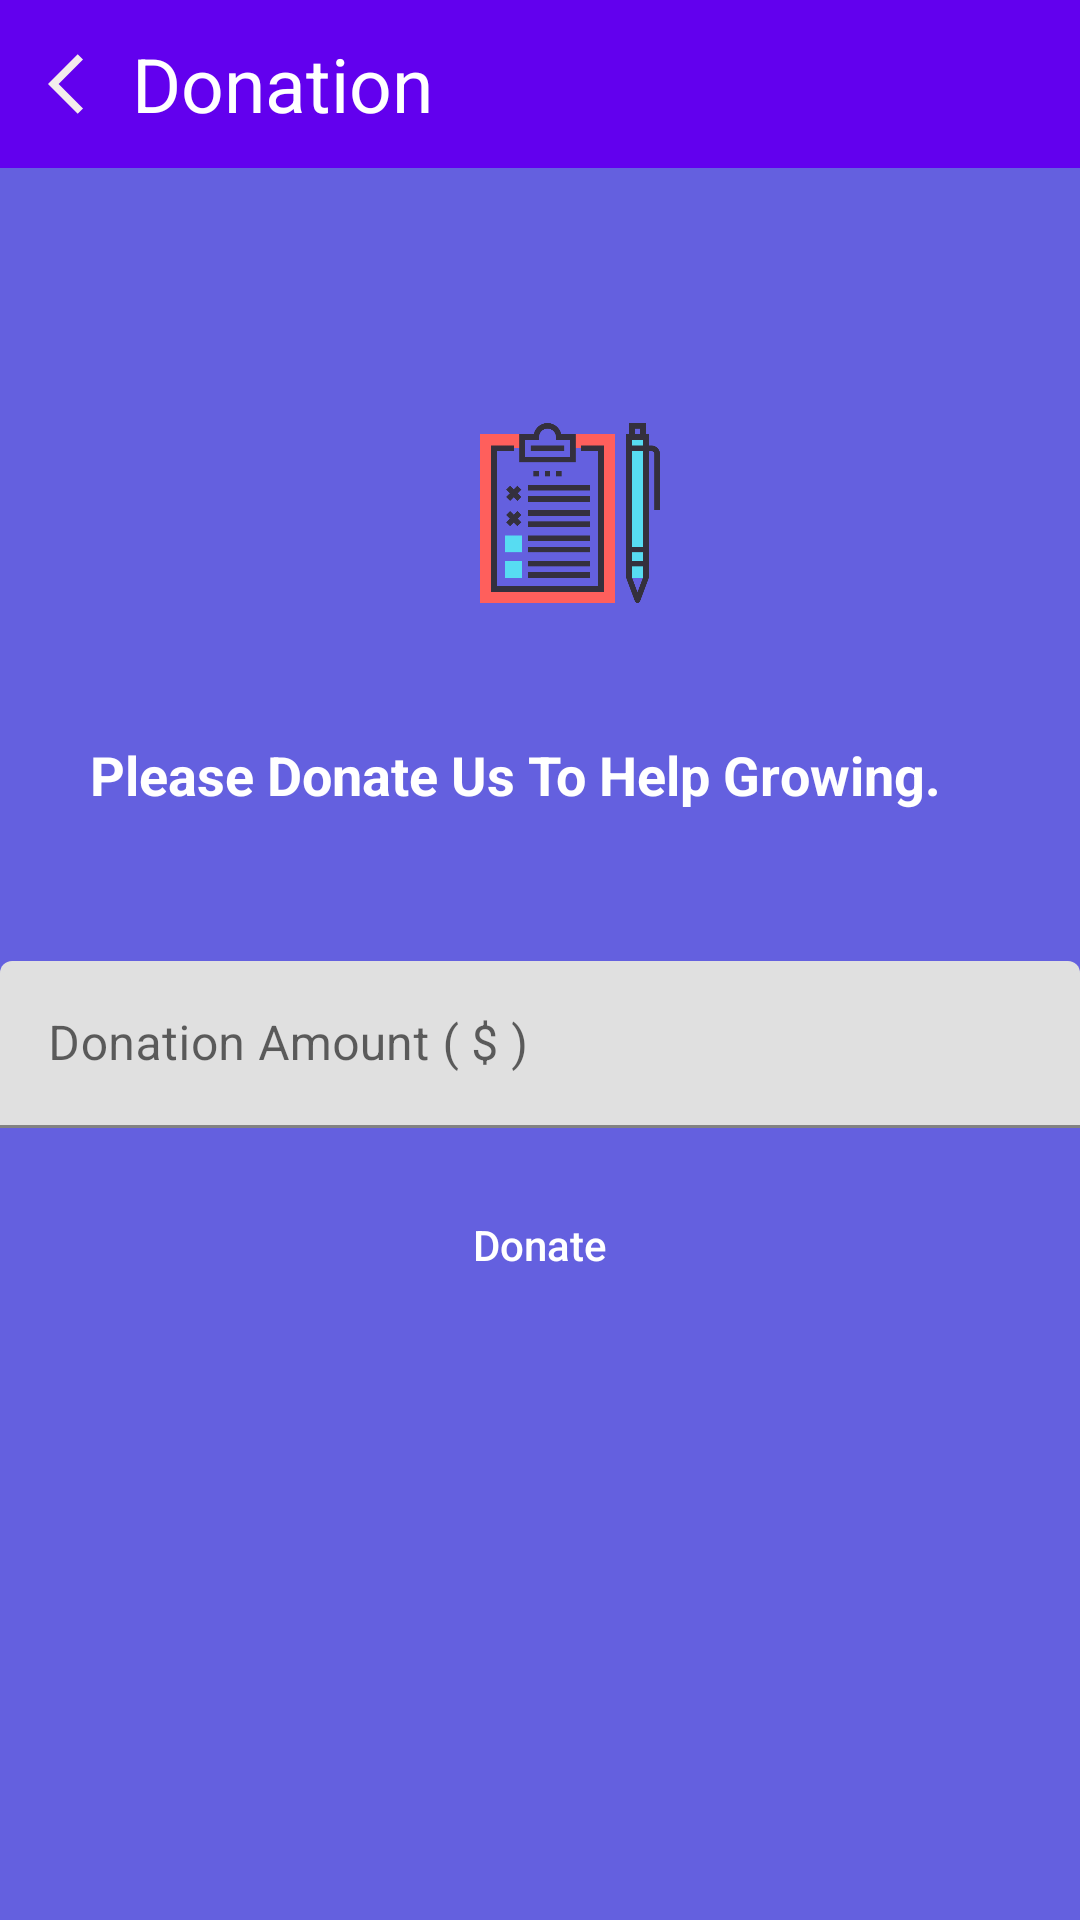

Icons on this 1080×1920 Android screen, each with the point to tap as (x,y):
back: (65,84)
